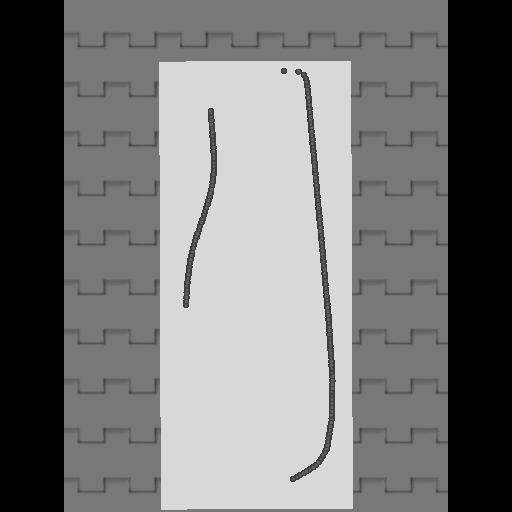Defect: (180, 305, 290, 491)
